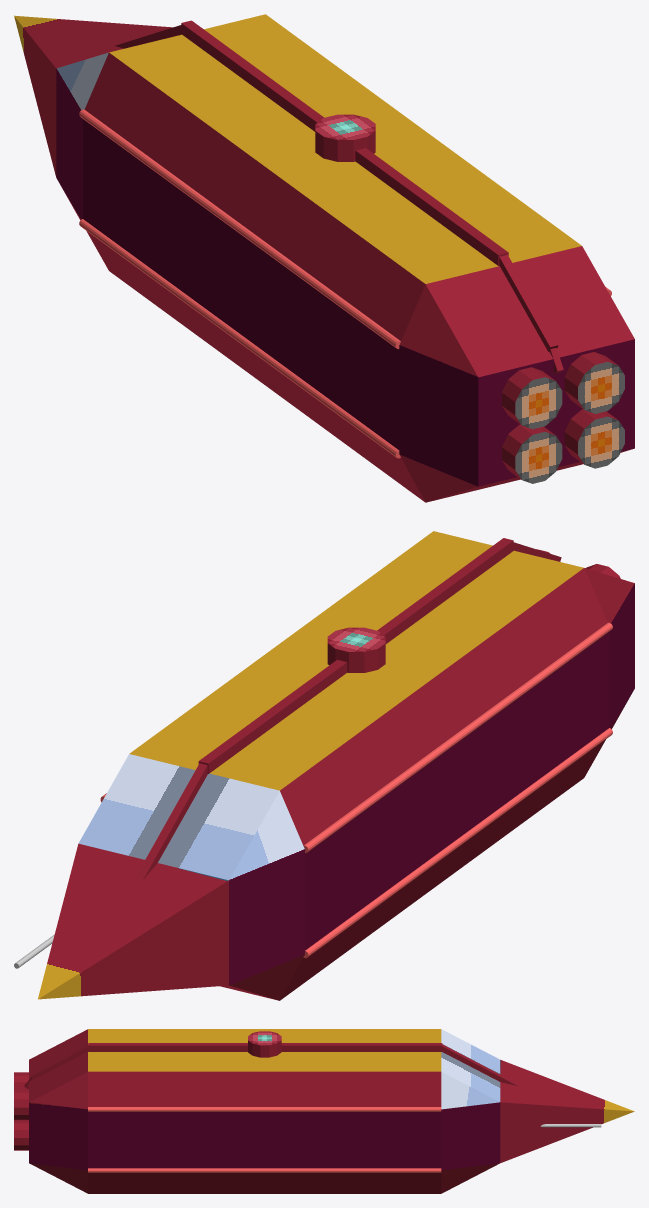
The model's file is laboris.gltf.
3 renders of one model, top to bottom at view 1: azimuth 30°, elevation 25°; view 2: azimuth 150°, elevation 25°; view 3: azimuth 270°, elevation 25°, orthographic. The views are drawn at different scales.
Parts seen in each view (by area): view 1: ShipBody, cylinder (×6), cube (×3), FrontCone, ShieldGenerator; view 2: ShipBody, FrontCone, cube (×3), cylinder (×2), ShieldGenerator; view 3: ShipBody, FrontCone, cylinder (×4), cube (×4), ShieldGenerator.
Boxes of the visible parts, bbox=[...] form: ShipBody: bbox=[56, 14, 634, 502]; cylinder (×6): bbox=[79, 109, 624, 483]; cube (×3): bbox=[181, 20, 558, 351]; FrontCone: bbox=[14, 15, 172, 176]; ShieldGenerator: bbox=[315, 114, 375, 161]; ShipBody: bbox=[78, 531, 634, 1000]; FrontCone: bbox=[38, 843, 228, 999]; cube (×3): bbox=[134, 538, 513, 880]; cylinder (×2): bbox=[303, 622, 612, 958]; ShieldGenerator: bbox=[327, 627, 385, 672]; ShipBody: bbox=[29, 1029, 500, 1193]; FrontCone: bbox=[500, 1060, 634, 1162]; cylinder (×4): bbox=[14, 1089, 441, 1172]; cube (×4): bbox=[31, 1043, 518, 1085]; ShieldGenerator: bbox=[248, 1031, 281, 1057].
Size of the model in its own units: 0.0323 by 0.0344 by 0.1441.
7 materials, 7 textured.
